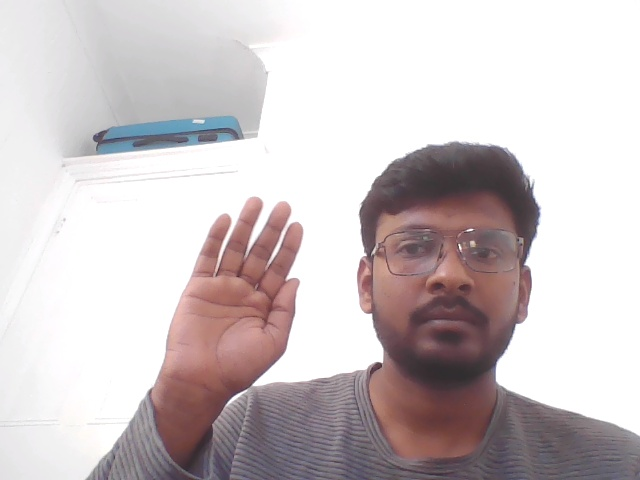Hello: (132, 167, 315, 480)
